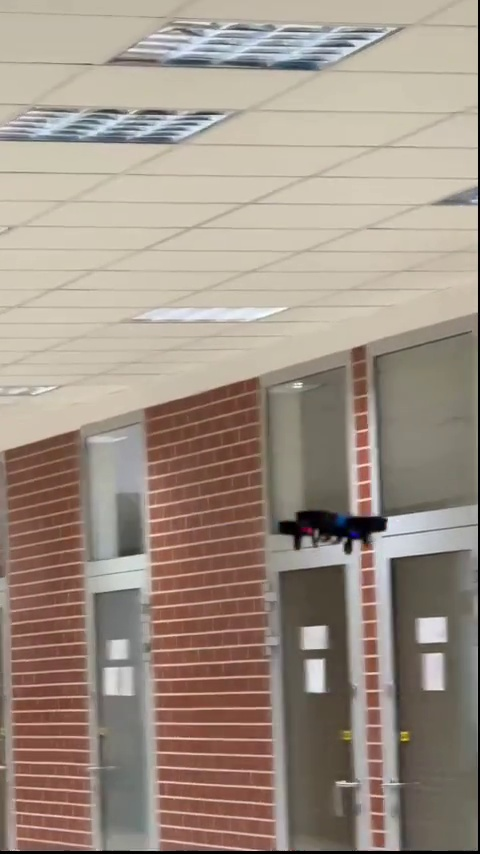drone: (278, 507, 385, 559)
